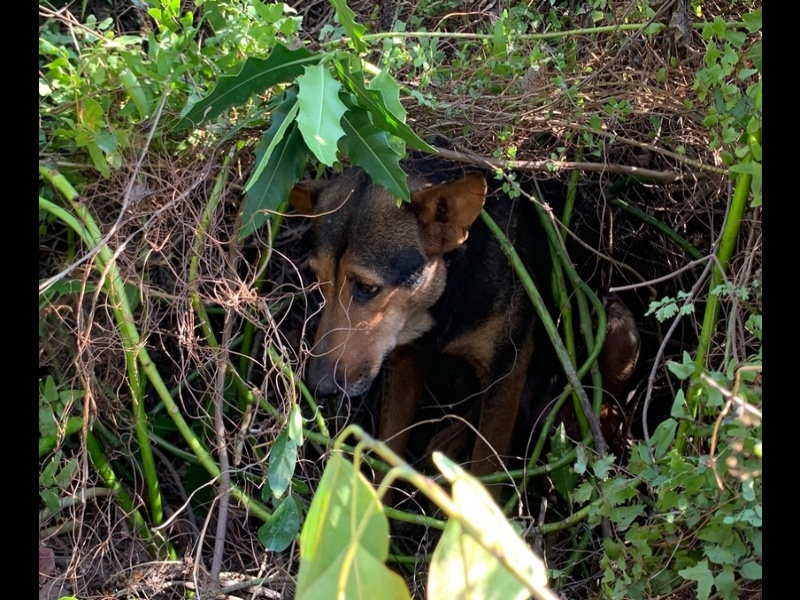dog: (283, 154, 662, 497)
